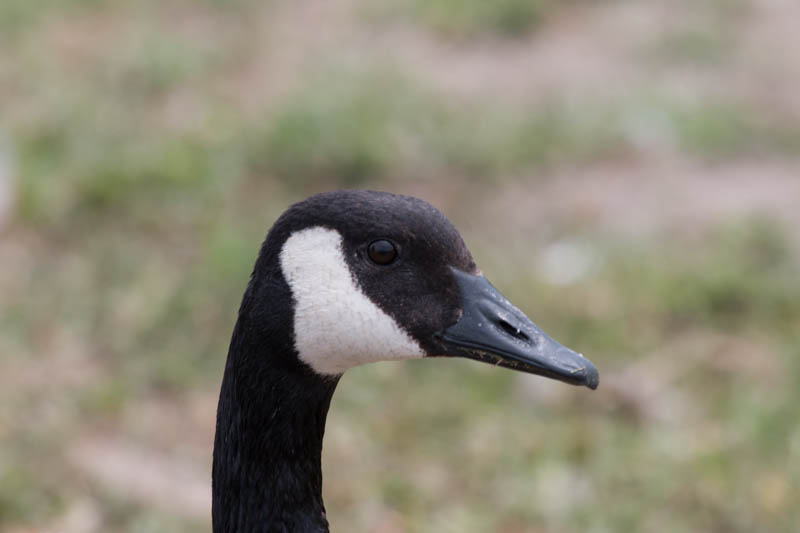goose-head: (230, 188, 600, 390)
